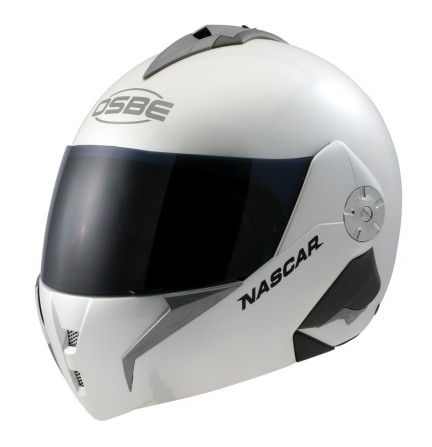helmet: (45, 38, 398, 380)
